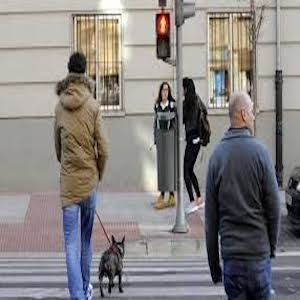red: (156, 13, 171, 40)
